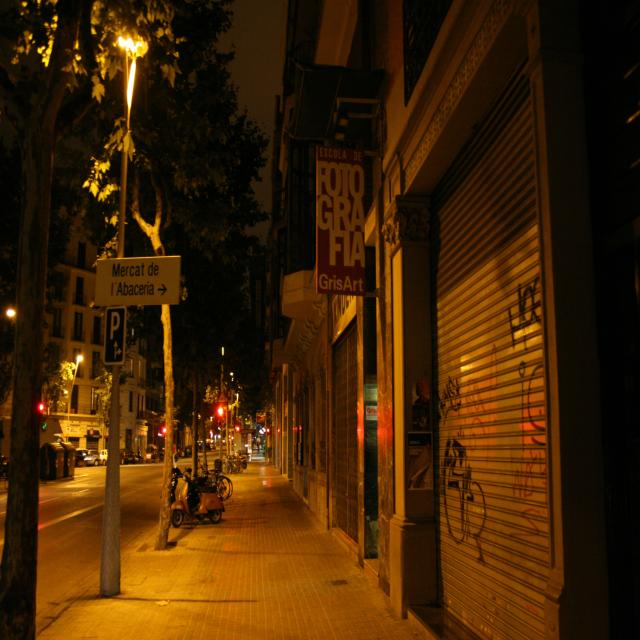Motorbike: (162, 461, 232, 548)
